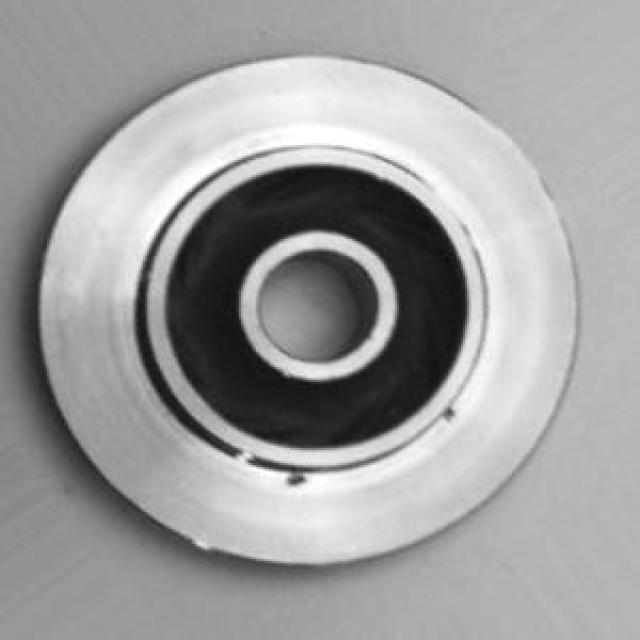Defect: (273, 468, 317, 493)
